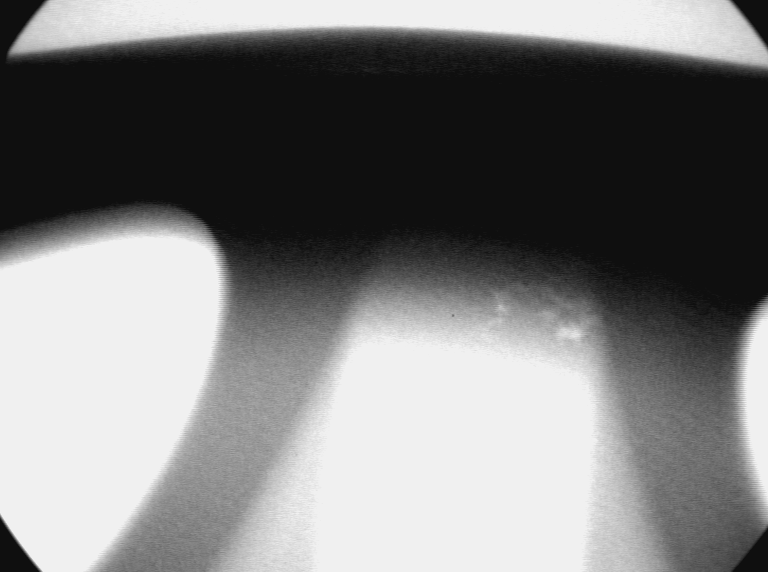defect: (479, 272, 605, 358)
